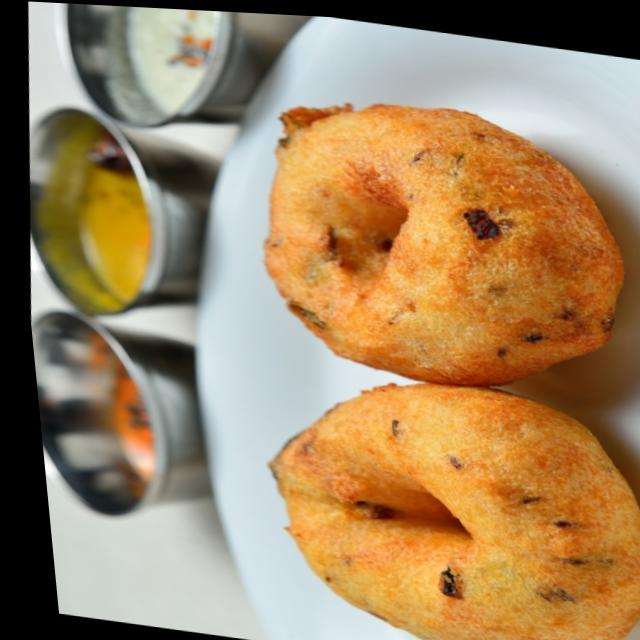VADA: (256, 97, 640, 640)
